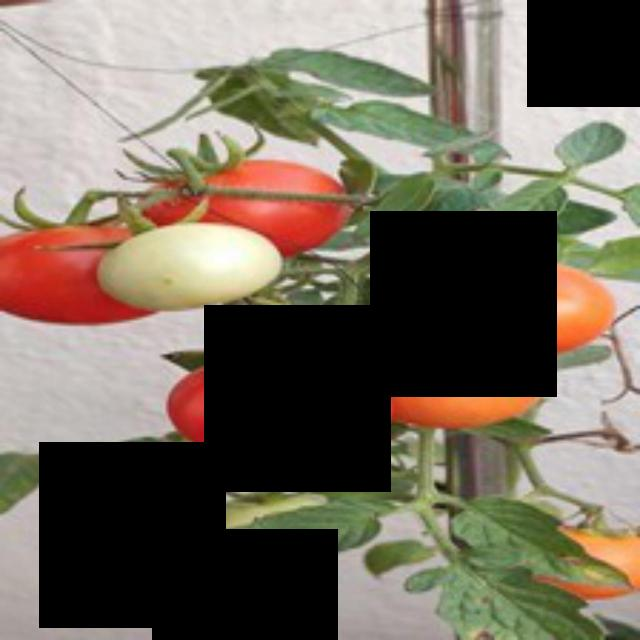tomato: (152, 348, 407, 479), (406, 272, 624, 368)
